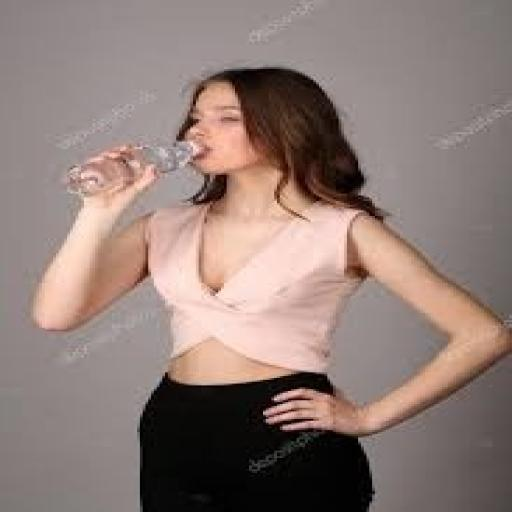drinking: (64, 138, 199, 197)
